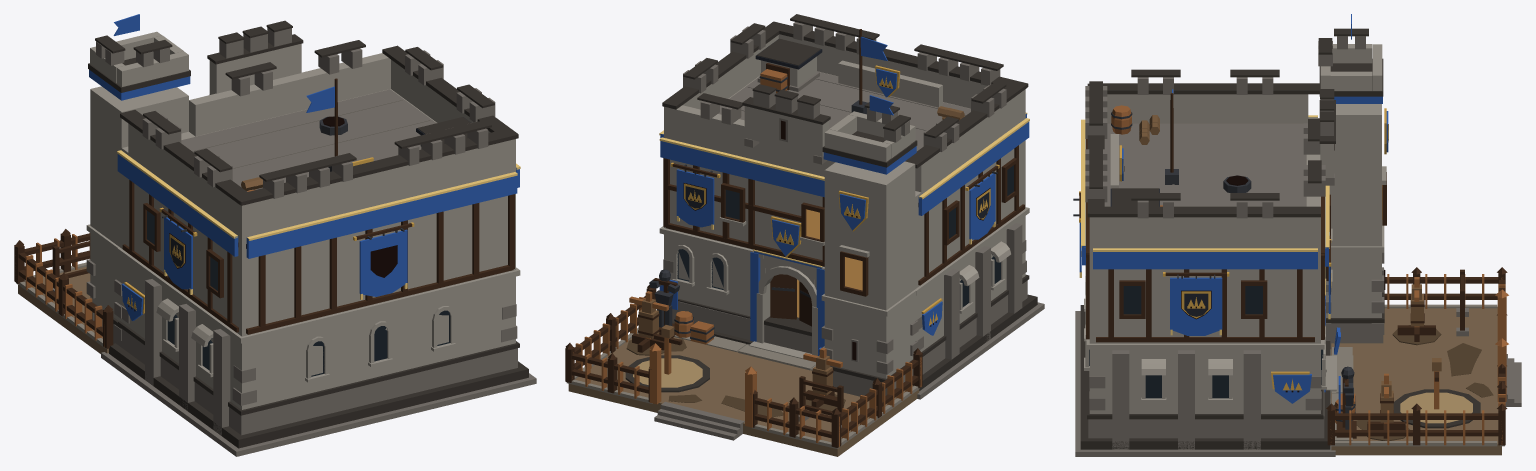
3 views of the same model, side by side, from view 1: azimuth 30°, elevation 25°; view 2: azimuth 150°, elevation 25°; view 3: azimuth 270°, elevation 25° (orthographic). The views are drawn at different scales.
Visible parts, largest first — view 1: BR-主体, BR-team, BR-自发光, BR-team_trim; view 2: BR-主体, BR-team, BR-自发光, BR-team_trim; view 3: BR-主体, BR-team, BR-自发光, BR-team_trim.
Part boxes in pixels (x1,y1,x2,y2): BR-主体: (14,20,536,456); BR-team: (89,14,519,320); BR-自发光: (128,116,450,376); BR-team_trim: (117,150,520,299); BR-主体: (565,14,1044,456); BR-team: (659,37,1029,355); BR-自发光: (677,85,1013,360); BR-team_trim: (659,112,1029,267); BR-主体: (1073,28,1521,456); BR-team: (1079,14,1388,413); BR-自发光: (1089,144,1385,398); BR-team_trim: (1079,115,1330,335).
Bounding box in the file's own units: 11.08 × 11.38 × 14.73.
Materials: 4 (2 with a texture image).
